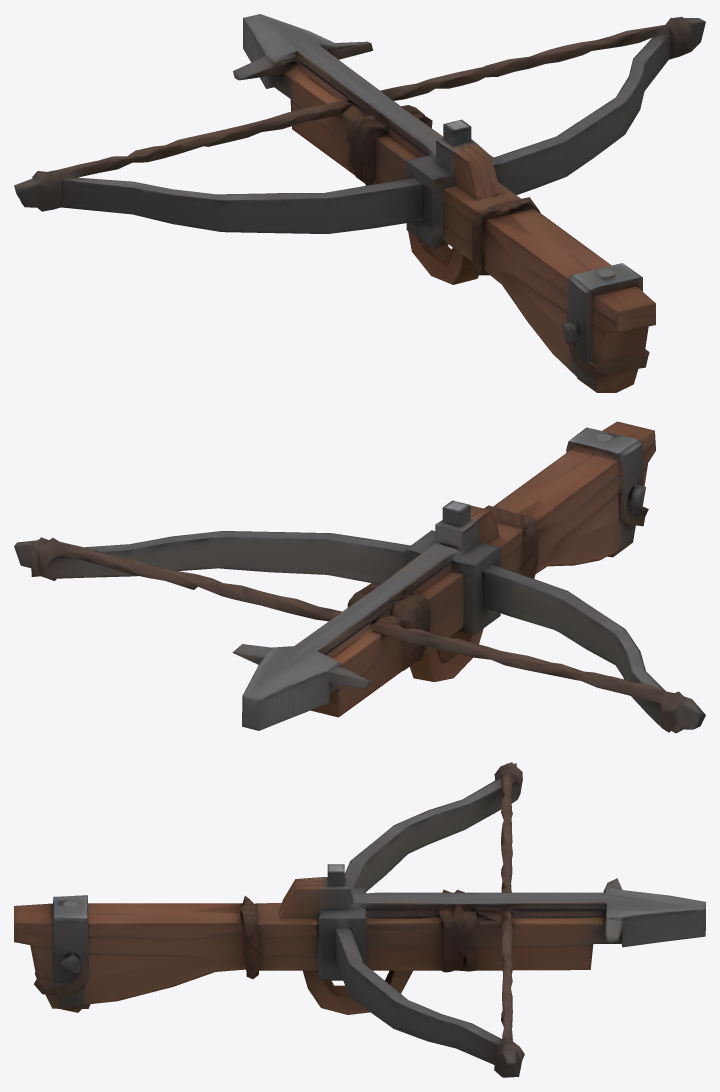
Rendered from base_basic_shaded.fbx.
3 renders of one model, top to bottom at view 1: azimuth 30°, elevation 25°; view 2: azimuth 150°, elevation 25°; view 3: azimuth 270°, elevation 25°, orthographic. The views are drawn at different scales.
Visible parts, largest first — view 1: model; view 2: model; view 3: model.
Part boxes in pixels (x1=…): model: x1=14, y1=14, x2=705, y2=392; model: x1=14, y1=421, x2=705, y2=733; model: x1=14, y1=762, x2=705, y2=1077.
Size of the model in its own units: 175 by 38.55 by 170.
